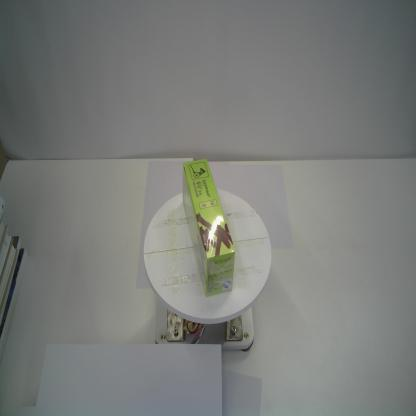Instant Drink: (182, 158, 236, 298)
